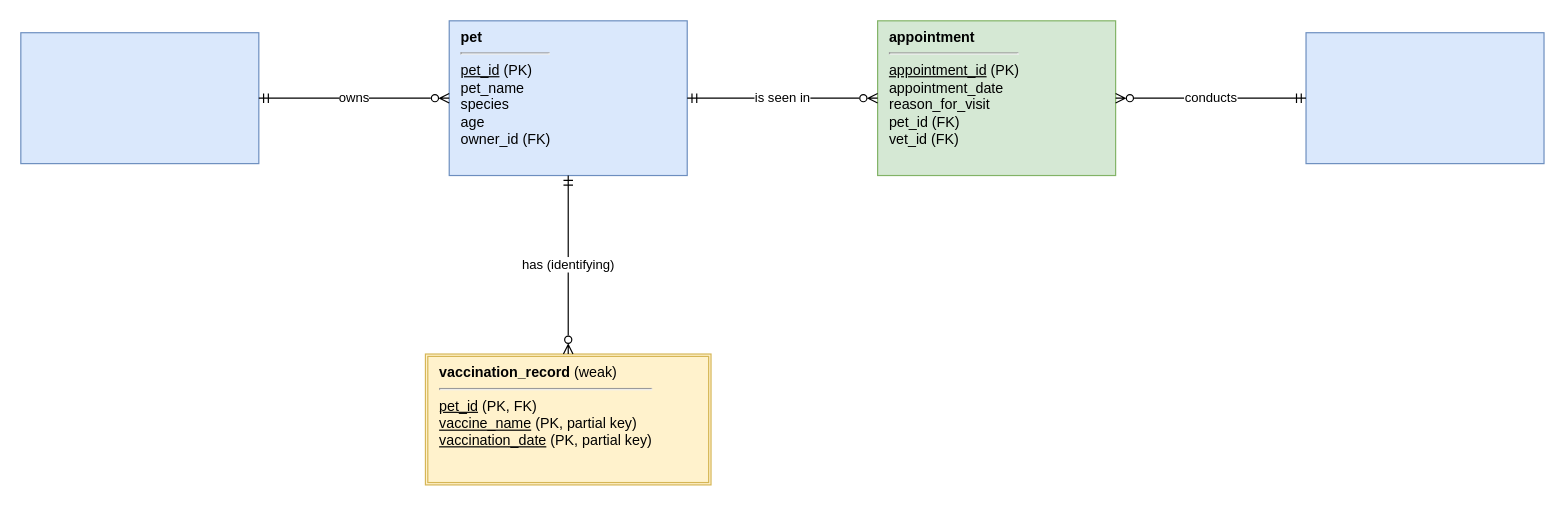
The diagram is 1565 pixels wide and 506 high, and some of its shapes have lost their labels. Each missing label, with the box of its shape:
owner owner_id (PK) first_name last_name phone_number: (20, 32, 259, 164)
veterinarian vet_id (PK) first_name last_name specialization: (1305, 32, 1544, 164)
